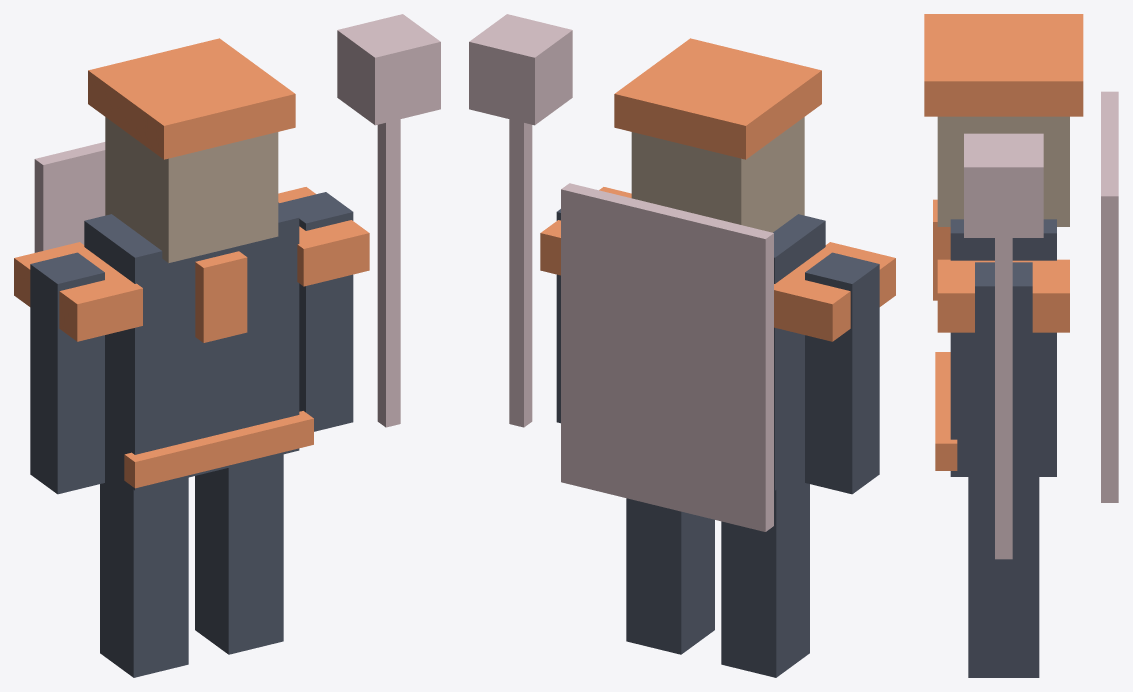
The model's file is 12_vela_voxmere_diver_at_drone.glb.
The picture shows the model from 3 angles, left to right: view 1: azimuth 30°, elevation 25°; view 2: azimuth 150°, elevation 25°; view 3: azimuth 270°, elevation 25°; orthographic projection. The views are drawn at different scales.
Parts seen in each view (by area): view 1: Vela Voxmere, Diver at Drone; view 2: Vela Voxmere, Diver at Drone; view 3: Vela Voxmere, Diver at Drone.
Boxes of the visible parts, <box> form: Vela Voxmere, Diver at Drone: <box>14,14,440,677</box>; Vela Voxmere, Diver at Drone: <box>469,14,895,677</box>; Vela Voxmere, Diver at Drone: <box>924,14,1118,677</box>.
Bounding box in the file's own units: 0.9859 × 1.41 × 0.4191.
